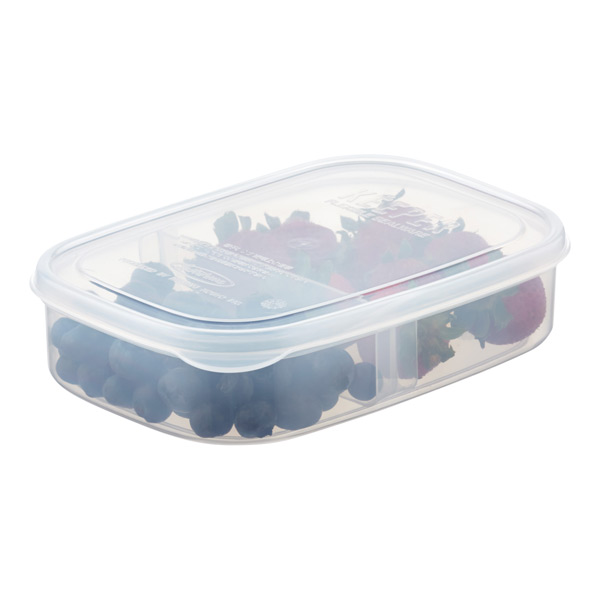PlasticBox: (24, 149, 577, 449)
